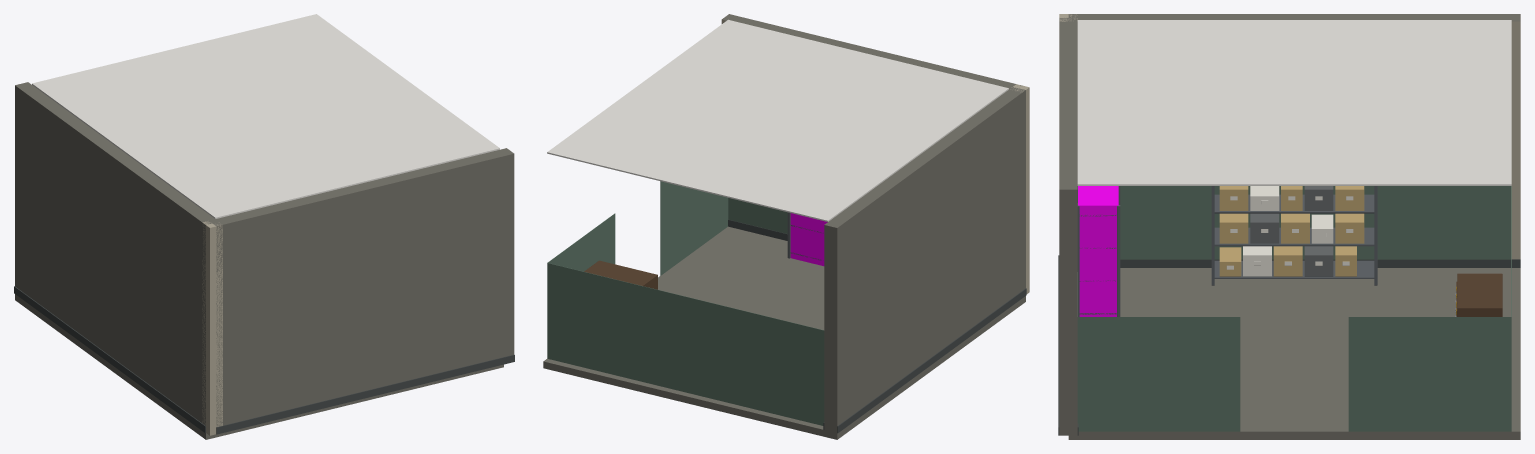
File: ENV_W0_ServiceStore.glb
The picture shows the model from 3 angles, left to right: view 1: azimuth 30°, elevation 25°; view 2: azimuth 150°, elevation 25°; view 3: azimuth 270°, elevation 25°; orthographic projection. The views are drawn at different scales.
Visible parts, largest first — view 1: ENV_W0_ServiceStore_Architecture, ENV_W0_ServiceStore_Ceiling, ENV_W0_ServiceStore_Posts; view 2: ENV_W0_ServiceStore_Architecture, ENV_W0_ServiceStore_Ceiling, ENV_W0_ServiceStore_Dado, PROP_Shelving_Archive_COL-colonly.001, PROP_Cabinet_Card_Index_Mesh, ENV_W0_ServiceStore_Posts; view 3: ENV_W0_ServiceStore_Ceiling, ENV_W0_ServiceStore_Dado, ENV_W0_ServiceStore_Architecture, PROP_Shelving_Archive_Mesh, PROP_Shelving_Archive_COL-colonly.001, PROP_Cabinet_Card_Index_Mesh, PROP_Shelving_Archive_Mesh.001.
Part boxes in pixels (<box>): ENV_W0_ServiceStore_Architecture: <box>14,82,514,439</box>; ENV_W0_ServiceStore_Ceiling: <box>32,14,499,218</box>; ENV_W0_ServiceStore_Posts: <box>202,221,222,435</box>; ENV_W0_ServiceStore_Architecture: <box>543,14,1026,439</box>; ENV_W0_ServiceStore_Ceiling: <box>547,19,1008,221</box>; ENV_W0_ServiceStore_Dado: <box>547,181,824,425</box>; PROP_Shelving_Archive_COL-colonly.001: <box>790,213,827,266</box>; PROP_Cabinet_Card_Index_Mesh: <box>584,260,657,289</box>; ENV_W0_ServiceStore_Posts: <box>1010,84,1029,293</box>; ENV_W0_ServiceStore_Ceiling: <box>1077,20,1511,185</box>; ENV_W0_ServiceStore_Dado: <box>1077,186,1511,431</box>; ENV_W0_ServiceStore_Architecture: <box>1058,14,1520,439</box>; PROP_Shelving_Archive_Mesh: <box>1211,186,1377,285</box>; PROP_Shelving_Archive_COL-colonly.001: <box>1078,186,1118,316</box>; PROP_Cabinet_Card_Index_Mesh: <box>1455,273,1502,316</box>; PROP_Shelving_Archive_Mesh.001: <box>1077,186,1120,316</box>.
Size of what is drawn, in the model's own units: 4.61 by 3.12 by 5.11.
